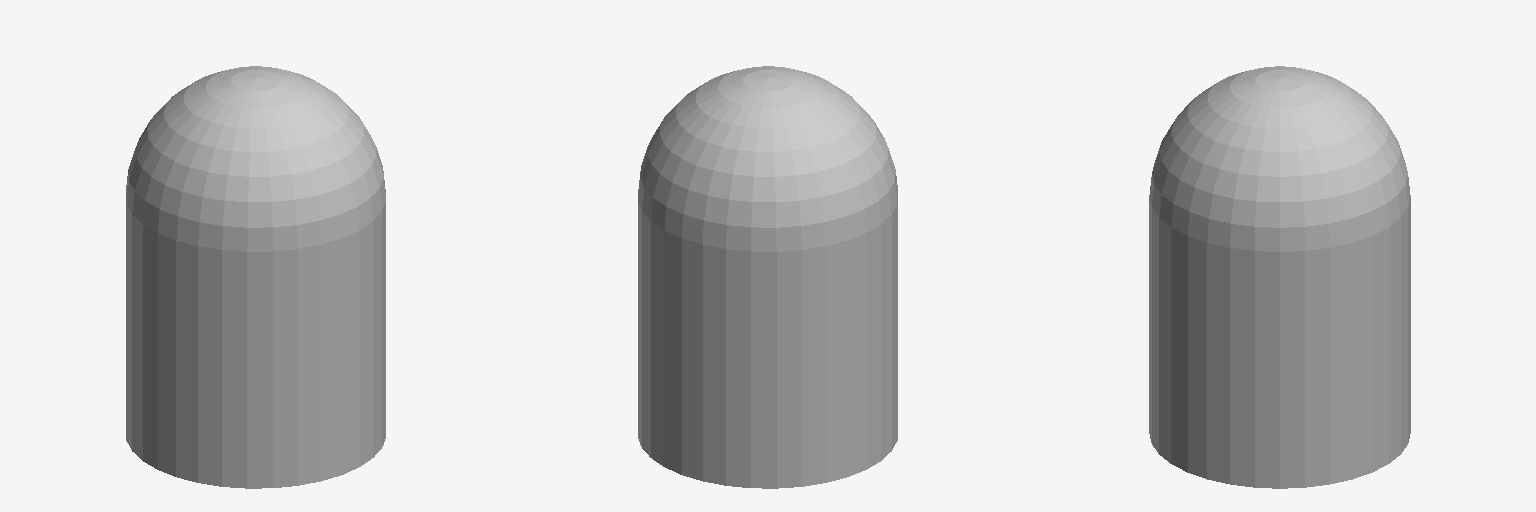
File: dome3.obj
The picture shows the model from 3 angles: view 1: azimuth 30°, elevation 25°; view 2: azimuth 150°, elevation 25°; view 3: azimuth 270°, elevation 25°; orthographic projection.
Visible parts, largest first — view 1: Sphere; view 2: Sphere; view 3: Sphere.
Boxes of the visible parts, x1,y1,x2,y2 form: Sphere: [126, 66, 385, 488]; Sphere: [638, 66, 897, 488]; Sphere: [1149, 66, 1410, 488].
Bounding box in the file's own units: 2 × 3 × 2.